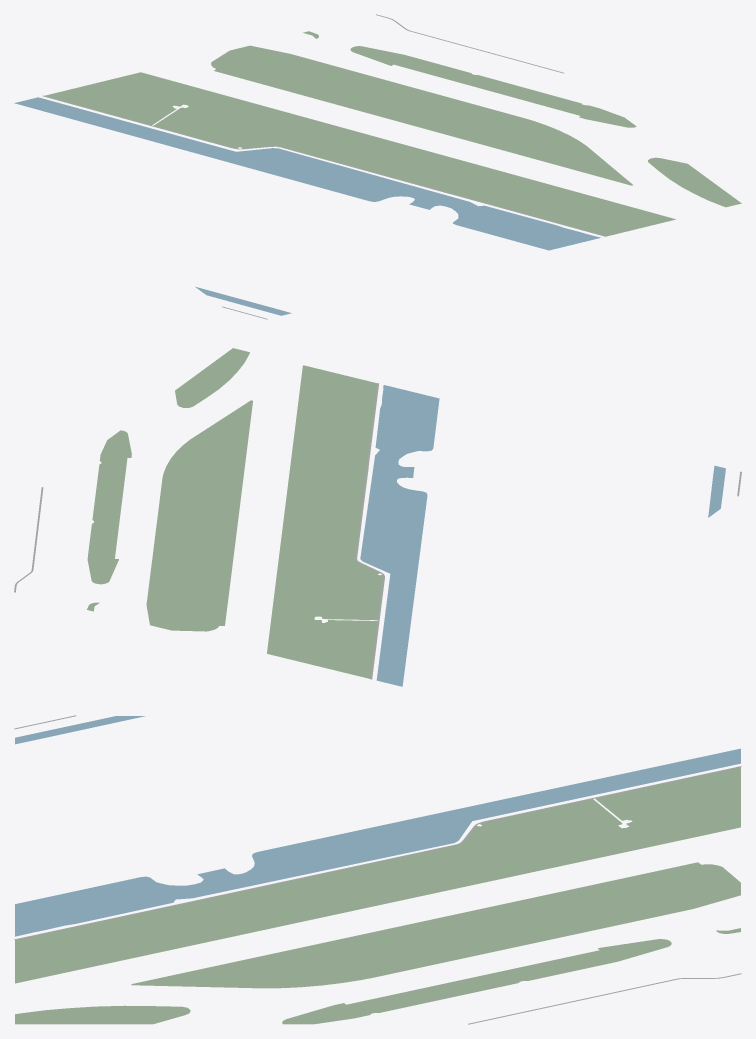
File: -25_12-known-fine.glb
The picture shows the model from 3 angles, top to bottom: view 1: azimuth 30°, elevation 25°; view 2: azimuth 150°, elevation 25°; view 3: azimuth 270°, elevation 25°; orthographic projection. The views are drawn at different scales.
Size of the model in its own units: 1002 by 0.1 by 997.
